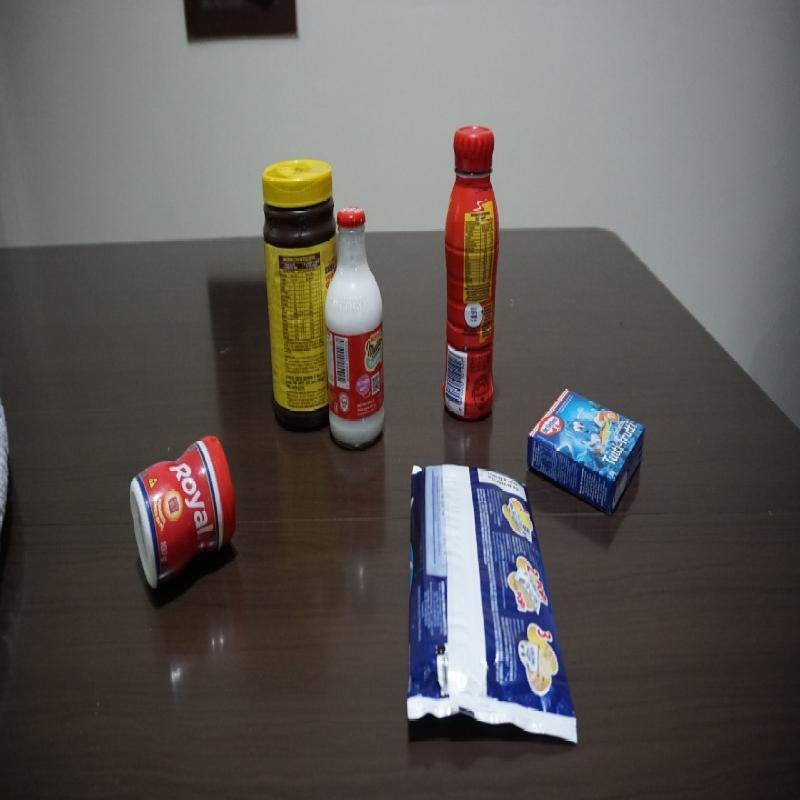Chocolate Milk: (442, 125, 501, 426)
Chocolate Powder: (258, 156, 338, 432)
Coconut Milk: (323, 205, 388, 455)
Gelatine: (524, 387, 648, 520)
Popcorn: (405, 456, 580, 750)
Yeast: (129, 431, 239, 592)
